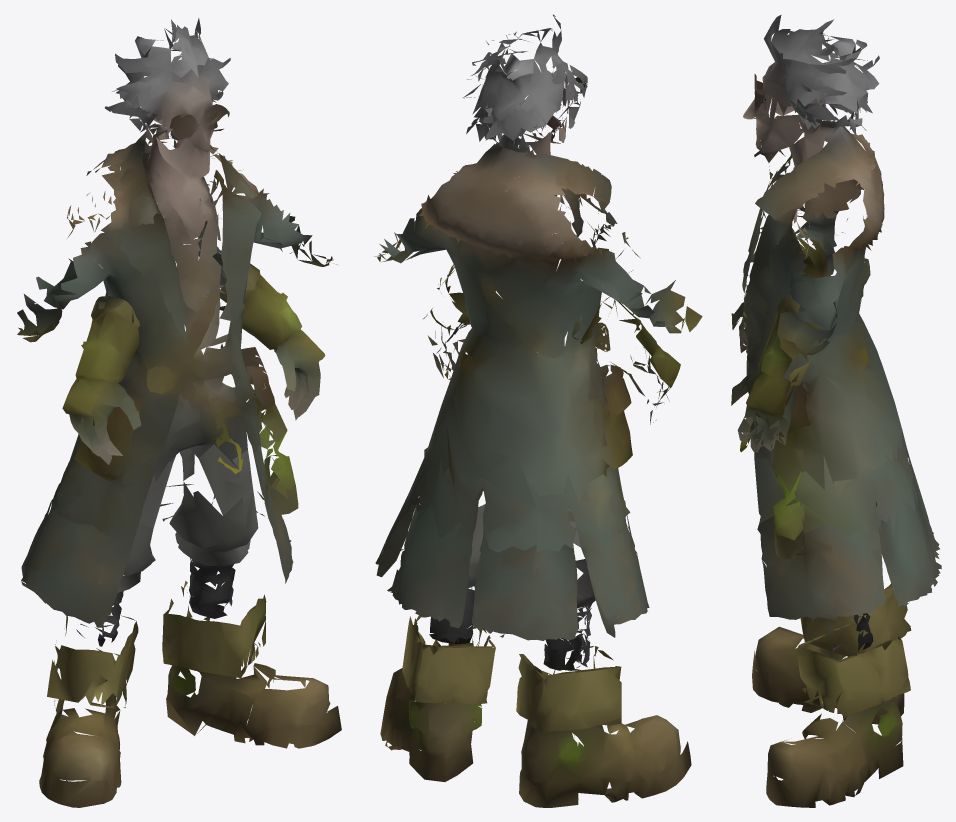
Rendered from hexley.glb.
3 renders of one model, left to right at view 1: azimuth 30°, elevation 25°; view 2: azimuth 150°, elevation 25°; view 3: azimuth 270°, elevation 25°, orthographic. The views are drawn at different scales.
Visible parts, largest first — view 1: torso, shinR, shinL, thighL, hips, thighR, foreL, foreR, head, armL; view 2: torso, shinL, thighL, shinR, hips, thighR, foreL, head, foreR; view 3: torso, shinR, thighR, hips, shinL, foreR, head, foreL, armL, armR, thighL.
Boxes of the visible parts, bbox=[...] form: torso: bbox=[17, 37, 337, 489]; shinR: bbox=[162, 586, 341, 748]; shinL: bbox=[39, 615, 138, 807]; thighL: bbox=[21, 497, 155, 639]; hips: bbox=[51, 426, 295, 538]; thighR: bbox=[160, 477, 298, 612]; foreL: bbox=[62, 285, 141, 464]; foreR: bbox=[198, 228, 325, 420]; head: bbox=[135, 18, 208, 77]; armL: bbox=[105, 101, 199, 217]; torso: bbox=[375, 48, 702, 507]; shinL: bbox=[516, 646, 691, 807]; thighL: bbox=[471, 515, 649, 680]; shinR: bbox=[380, 615, 495, 781]; hips: bbox=[406, 447, 630, 555]; thighR: bbox=[375, 490, 485, 654]; foreL: bbox=[572, 297, 680, 424]; head: bbox=[486, 14, 561, 80]; foreR: bbox=[423, 264, 495, 378]; torso: bbox=[740, 39, 901, 492]; shinR: bbox=[766, 621, 910, 807]; thighR: bbox=[757, 481, 941, 657]; hips: bbox=[740, 429, 918, 540]; shinL: bbox=[752, 585, 911, 724]; foreR: bbox=[731, 247, 829, 452]; head: bbox=[764, 15, 867, 64]; foreL: bbox=[731, 212, 836, 352]; armL: bbox=[754, 79, 867, 218]; armR: bbox=[762, 98, 863, 247]; thighL: bbox=[876, 477, 939, 585].
Bounding box in the file's own units: 0.4503 × 0.9995 × 0.2642.
